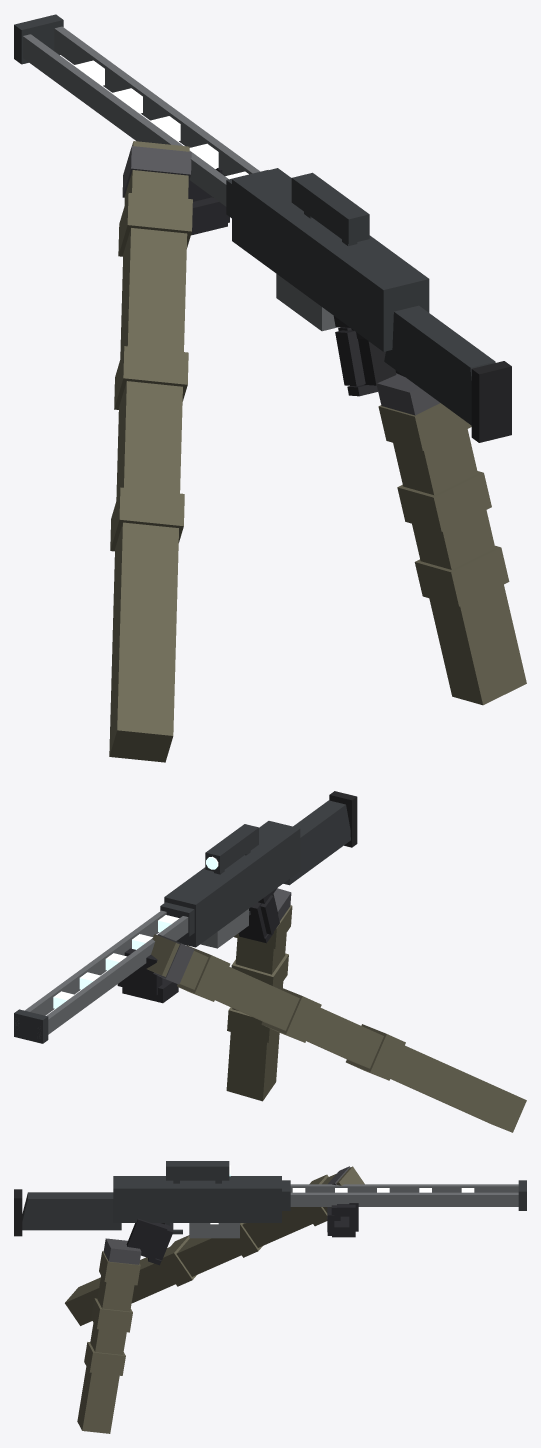
File: railgun.glb
3 views of the same model, one above another, from view 1: azimuth 30°, elevation 25°; view 2: azimuth 150°, elevation 25°; view 3: azimuth 270°, elevation 25° (orthographic). The views are drawn at different scales.
Parts seen in each view (by area): view 1: YL_Forearm, Y_Body, YR_Forearm, Y_Stock, Y_Rail, Y_Rail.001, YR_Wrap1, YR_Wrap2, Y_Scope, Y_Butt, YR_Wrap0, YL_Wrap1 (+9 smaller); view 2: YL_Forearm, Y_Body, YR_Forearm, Y_Stock, Y_Rail, Y_Rail.001, Y_Scope, YL_Wrap1, YL_Wrap2, YL_Wrap0, Y_Brace.001, YR_Wrap2 (+9 smaller); view 3: Y_Body, YL_Forearm, YR_Forearm, Y_Stock, Y_Rail.001, Y_Rail, Y_Scope, YR_Palm, YR_Wrap1, YR_Wrap2, YR_Wrap0, YL_Wrap2 (+6 smaller).
Boxes of the visible parts, bbox=[...] form: YL_Forearm: bbox=[109, 141, 189, 762]; Y_Body: bbox=[232, 168, 429, 351]; YR_Forearm: bbox=[393, 429, 526, 705]; Y_Stock: bbox=[384, 305, 495, 425]; Y_Rail: bbox=[23, 34, 228, 206]; Y_Rail.001: bbox=[54, 26, 259, 175]; YR_Wrap1: bbox=[397, 471, 491, 531]; YR_Wrap2: bbox=[414, 545, 509, 606]; Y_Scope: bbox=[291, 172, 369, 243]; Y_Butt: bbox=[471, 361, 511, 442]; YR_Wrap0: bbox=[378, 403, 471, 450]; YL_Wrap1: bbox=[114, 346, 188, 409]; YL_Forearm: bbox=[146, 934, 526, 1132]; Y_Body: bbox=[164, 821, 300, 947]; YR_Forearm: bbox=[226, 933, 286, 1101]; Y_Stock: bbox=[283, 800, 350, 885]; Y_Rail: bbox=[39, 916, 188, 1036]; Y_Rail.001: bbox=[15, 910, 166, 1025]; Y_Scope: bbox=[205, 824, 258, 872]; YL_Wrap1: bbox=[261, 986, 321, 1042]; YL_Wrap2: bbox=[346, 1024, 405, 1080]; YL_Wrap0: bbox=[177, 945, 230, 1001]; Y_Brace.001: bbox=[14, 1009, 48, 1043]; YR_Wrap2: bbox=[227, 1007, 276, 1042]; Y_Body: bbox=[113, 1176, 281, 1222]; YL_Forearm: bbox=[65, 1166, 364, 1325]; YR_Forearm: bbox=[77, 1276, 134, 1433]; Y_Stock: bbox=[22, 1192, 121, 1230]; Y_Rail.001: bbox=[290, 1192, 518, 1206]; Y_Rail: bbox=[290, 1184, 518, 1192]; Y_Scope: bbox=[166, 1161, 229, 1180]; YR_Palm: bbox=[126, 1218, 167, 1259]; YR_Wrap1: bbox=[91, 1298, 132, 1332]; YR_Wrap2: bbox=[84, 1342, 125, 1375]; YR_Wrap0: bbox=[99, 1251, 140, 1285]; YL_Wrap2: bbox=[161, 1235, 196, 1286].
Bounding box in the file's own units: 0.6292 × 0.6539 × 1.22.
